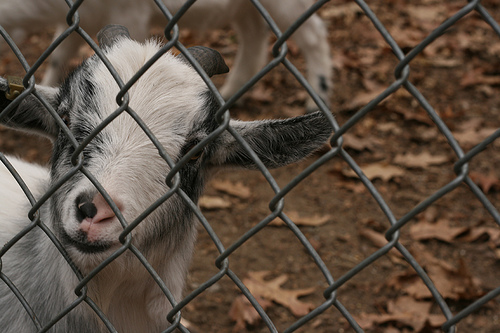goat: (1, 23, 334, 333)
